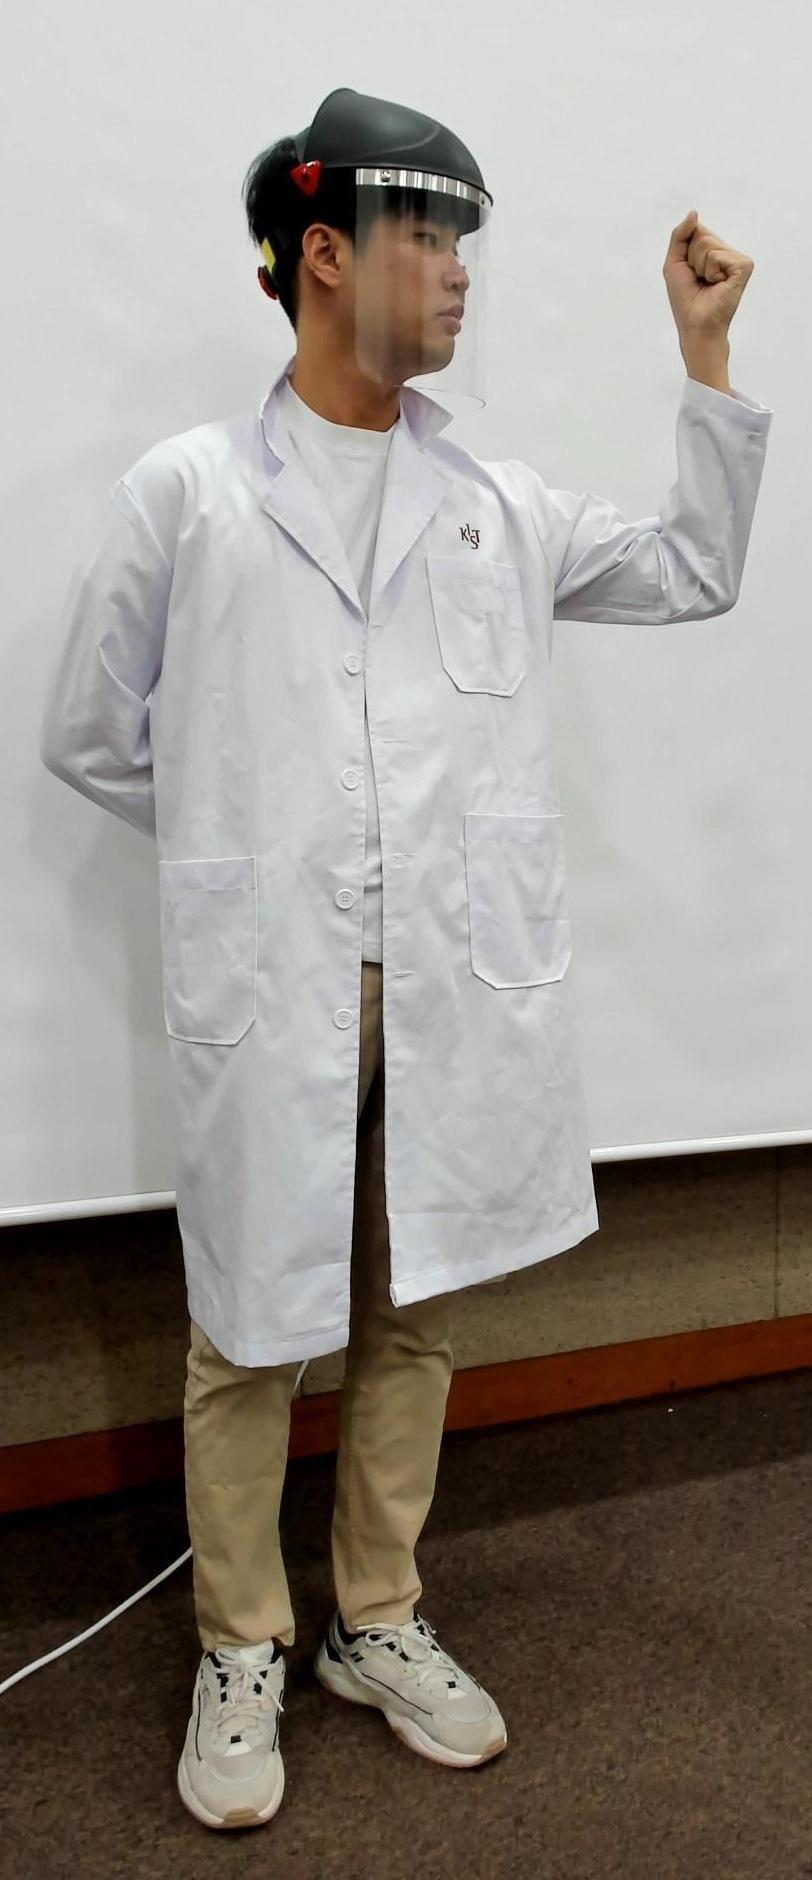lab_coat: (154, 391, 567, 1345)
